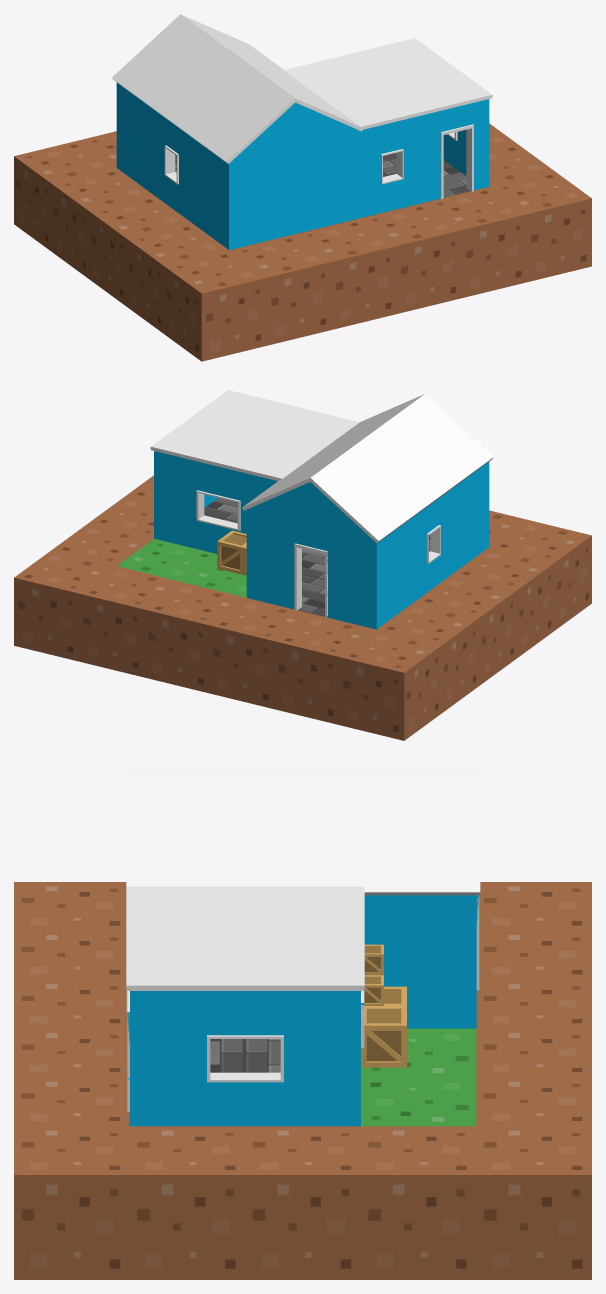
File: SigmaCityTest3.glb
3 views of the same model, one above another, from view 1: azimuth 30°, elevation 25°; view 2: azimuth 150°, elevation 25°; view 3: azimuth 270°, elevation 25° (orthographic). The views are drawn at different scales.
Visible parts, largest first — view 1: Dirt.014, CornerWall.001, Dirt.015, Dirt.013, Dirt.016, Dirt.017, Dirt.018, SlantRoof.005, Wall.002, Window.002, Dirt.012, Dirt.010 (+18 smaller); view 2: Dirt.007, Dirt.006, Dirt.003, Dirt.002, Dirt.004, Dirt.005, LongWindow, SlantRoof.001, Dirt.008, Dirt.012, Dirt.010, Dirt.014 (+25 smaller); view 3: LongWindow.001, Dirt.001, Dirt.011, Dirt.004, Dirt.009, Dirt.013, SlantRoof, SlantRoof.004, SlantRoof.002, Wall.005, RoofTop.002, RoofTop.003 (+21 smaller).
Part boxes in pixels (x1=…): Dirt.014: x1=164, y1=250, x2=266, y2=361; CornerWall.001: x1=191, y1=137, x2=294, y2=249; Dirt.015: x1=229, y1=234, x2=331, y2=345; Dirt.013: x1=489, y1=171, x2=591, y2=282; Dirt.016: x1=294, y1=218, x2=396, y2=329; Dirt.017: x1=359, y1=202, x2=461, y2=313; Dirt.018: x1=425, y1=187, x2=526, y2=297; SlantRoof.005: x1=187, y1=69, x2=296, y2=163; Wall.002: x1=294, y1=130, x2=359, y2=234; Window.002: x1=359, y1=115, x2=424, y2=218; Dirt.012: x1=126, y1=223, x2=228, y2=333; Dirt.010: x1=89, y1=195, x2=191, y2=306; Dirt.007: x1=339, y1=629, x2=441, y2=740; Dirt.006: x1=274, y1=614, x2=375, y2=724; Dirt.003: x1=144, y1=582, x2=246, y2=693; Dirt.002: x1=79, y1=566, x2=180, y2=677; Dirt.004: x1=14, y1=550, x2=115, y2=661; Dirt.005: x1=209, y1=598, x2=311, y2=708; LongWindow: x1=154, y1=457, x2=271, y2=553; SlantRoof.001: x1=309, y1=450, x2=416, y2=543; Dirt.008: x1=377, y1=602, x2=479, y2=712; Dirt.012: x1=452, y1=547, x2=554, y2=657; Dirt.010: x1=415, y1=574, x2=516, y2=685; Dirt.014: x1=490, y1=519, x2=591, y2=630; LongWindow.001: x1=130, y1=1000, x2=360, y2=1126; Dirt.001: x1=360, y1=1126, x2=476, y2=1279; Dirt.011: x1=129, y1=1126, x2=245, y2=1279; Dirt.004: x1=476, y1=1126, x2=591, y2=1279; Dirt.009: x1=245, y1=1126, x2=360, y2=1279; Dirt.013: x1=14, y1=1126, x2=129, y2=1279; SlantRoof: x1=357, y1=769, x2=480, y2=895; SlantRoof.004: x1=126, y1=769, x2=248, y2=886; SlantRoof.002: x1=242, y1=769, x2=364, y2=886; Wall.005: x1=364, y1=895, x2=464, y2=1028; RoofTop.002: x1=242, y1=933, x2=364, y2=990; RoofTop.003: x1=126, y1=933, x2=248, y2=990.
Size of the model in its own units: 12 by 6.02 by 10.
7 materials, 3 textured.
